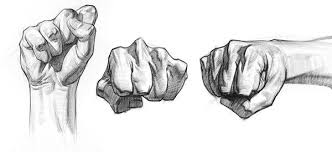fist: (20, 9, 99, 75), (107, 40, 182, 101), (209, 46, 272, 116)
